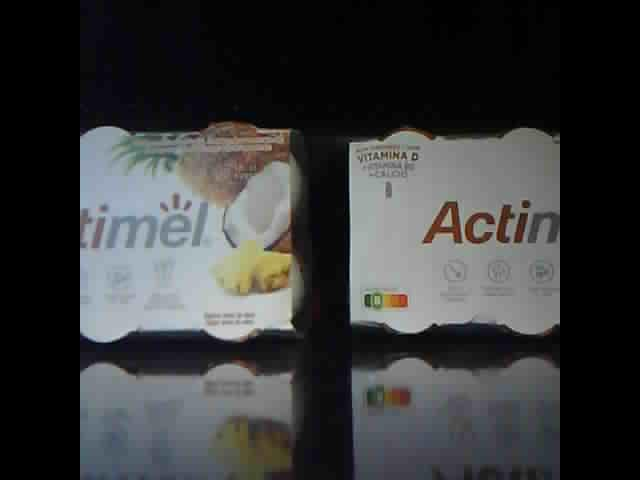actimel: (80, 120, 317, 346), (348, 123, 559, 338)
